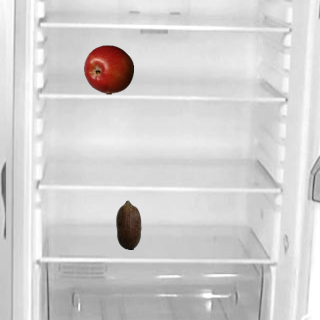Apple Braeburn: (83, 44, 133, 94)
Nut Pecan: (103, 199, 153, 249)
